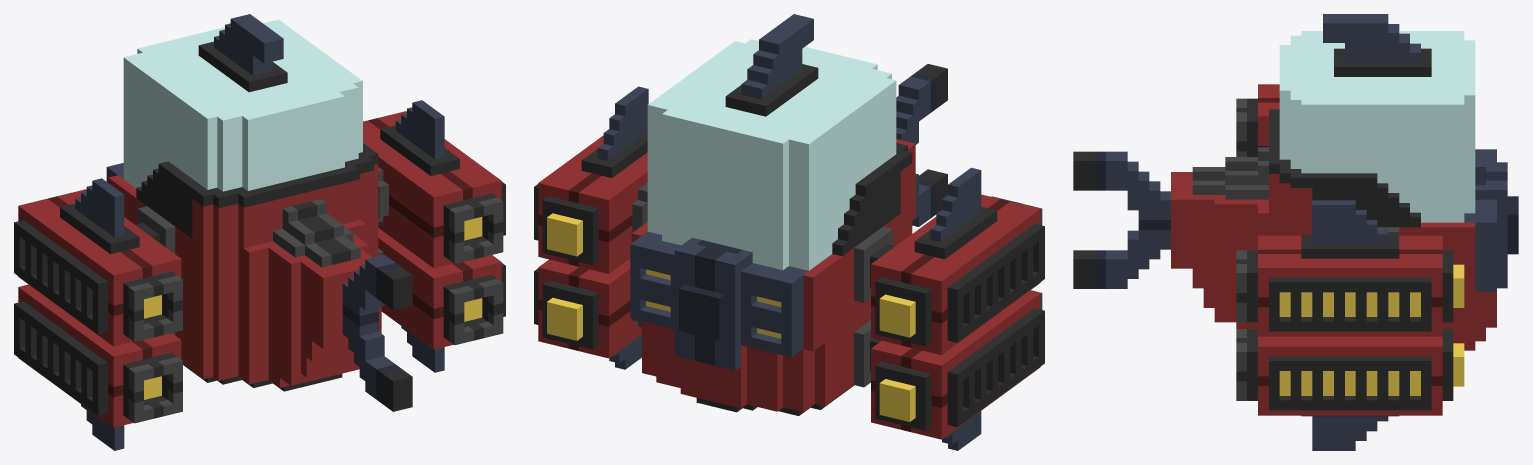
Rendered from mecha_final.fbx.
The picture shows the model from 3 angles, left to right: view 1: azimuth 30°, elevation 25°; view 2: azimuth 150°, elevation 25°; view 3: azimuth 270°, elevation 25°; orthographic projection. The views are drawn at different scales.
Parts seen in each view (by area): view 1: MECHA_01, MECHA_01_glass; view 2: MECHA_01, MECHA_01_glass; view 3: MECHA_01, MECHA_01_glass.
Part boxes in pixels (<box>): MECHA_01: <box>14,14,505,450</box>; MECHA_01_glass: <box>123,19,362,191</box>; MECHA_01: <box>534,14,1044,450</box>; MECHA_01_glass: <box>647,39,896,270</box>; MECHA_01: <box>1073,14,1518,450</box>; MECHA_01_glass: <box>1279,31,1475,222</box>.
Bounding box in the file's own units: 420 × 360 × 410.
